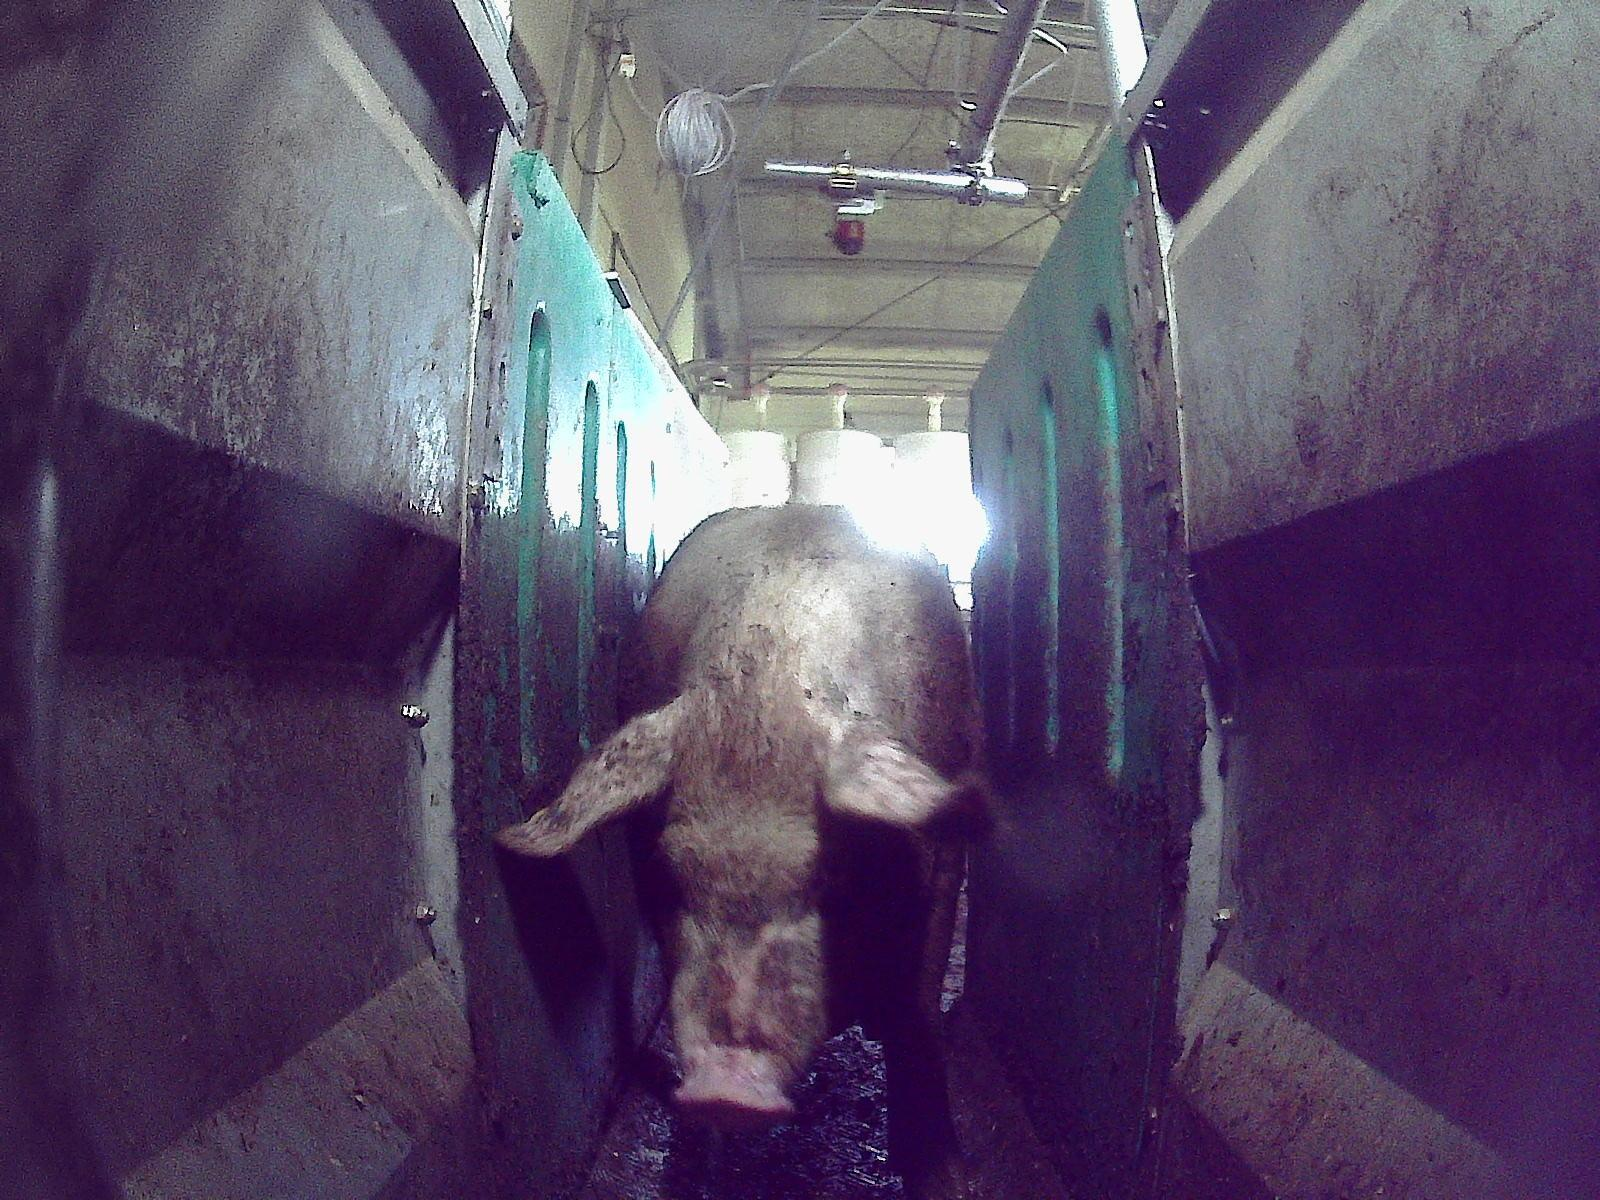Face: (637, 687, 878, 1124)
